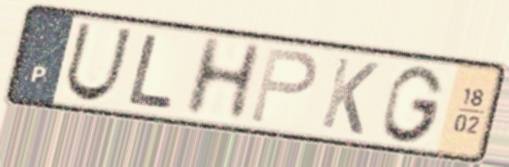G: (380, 63, 448, 145)
H: (178, 34, 268, 121)
K: (317, 54, 383, 139)
L: (125, 31, 179, 111)
P: (246, 44, 321, 127)
U: (60, 20, 135, 104)
